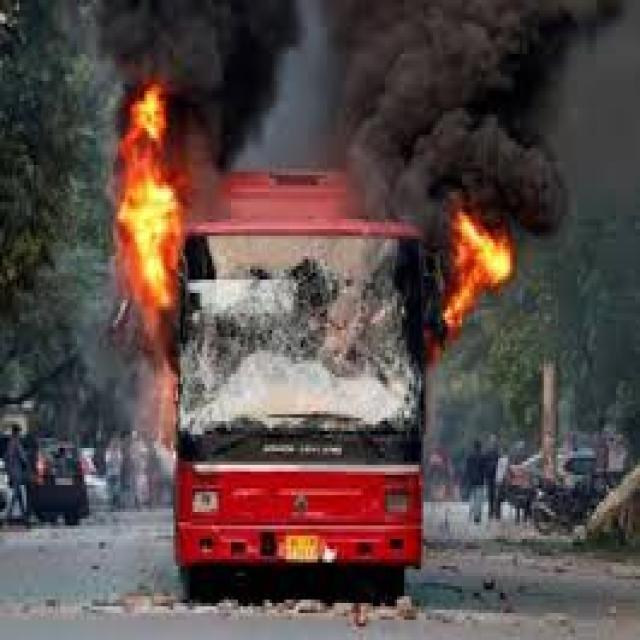Fire: (118, 79, 177, 323), (441, 200, 514, 337)
Smoke: (328, 0, 637, 194), (99, 2, 306, 82), (276, 0, 331, 172), (178, 83, 274, 172), (512, 190, 566, 240)
